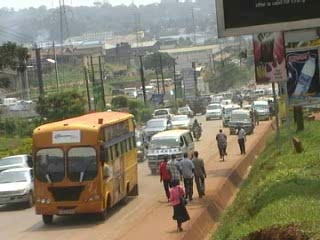Car: (0, 164, 43, 209), (0, 150, 39, 182), (144, 116, 174, 140), (135, 122, 149, 161), (204, 100, 228, 122), (172, 112, 193, 134), (173, 102, 195, 118), (219, 97, 234, 109)
Motorcycle: (187, 122, 204, 142)
